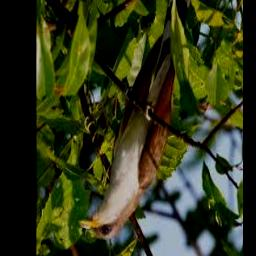Cuckoo: (79, 0, 196, 240)
